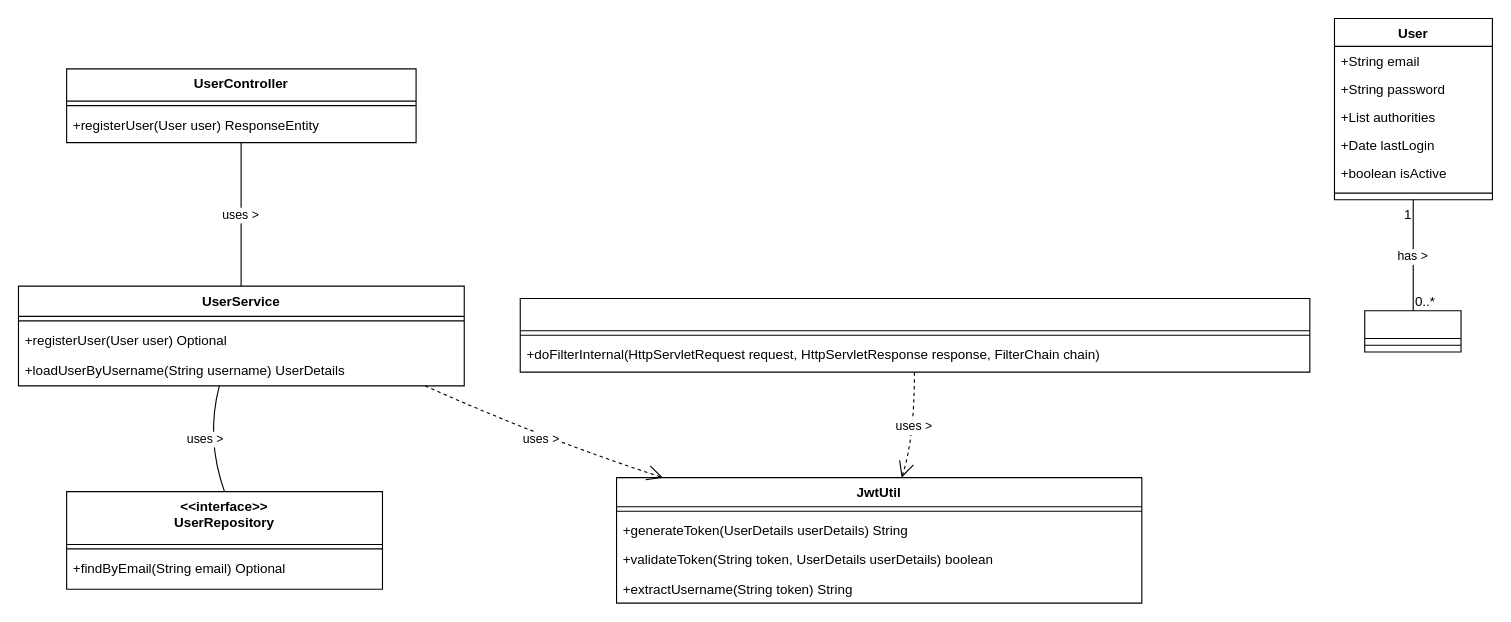
This 1511x622 diagram has some shape labels left out. The box of each missing label's shape, as (x1, y1, x2, y2) in pixels:
Authority: (1364, 310, 1461, 352)
JwtRequestFilter: (519, 297, 1310, 372)
